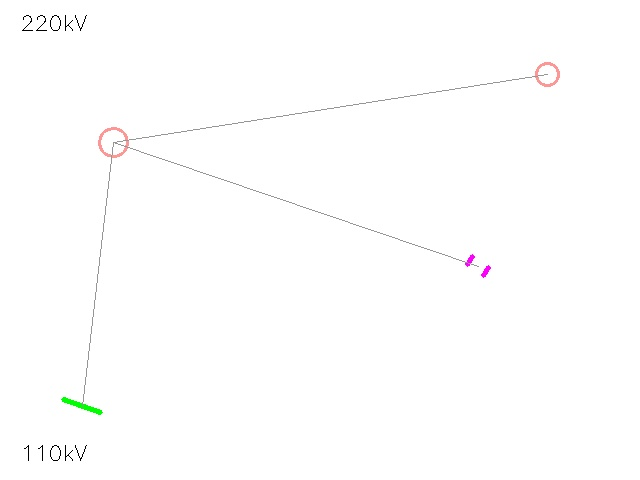busbar: (58, 382, 106, 430)
capacitor: (462, 250, 494, 282)
reactor: (84, 113, 142, 171)
voltage_transformer: (525, 52, 569, 96)
